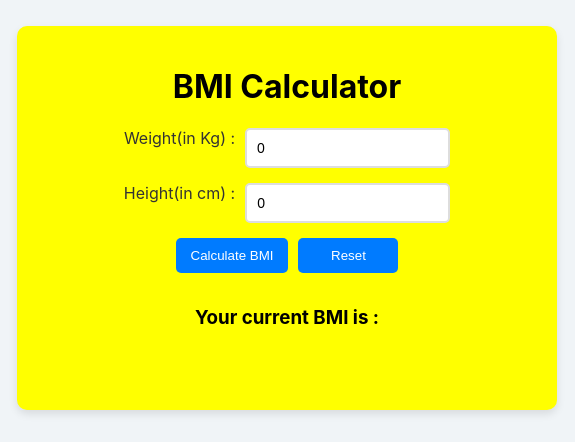
Test: BMI-Calculator › calculates BMI correctly
Replace the text in the field with class "weight-input" with "70". click: (348, 148)
box: [245,128,450,168]
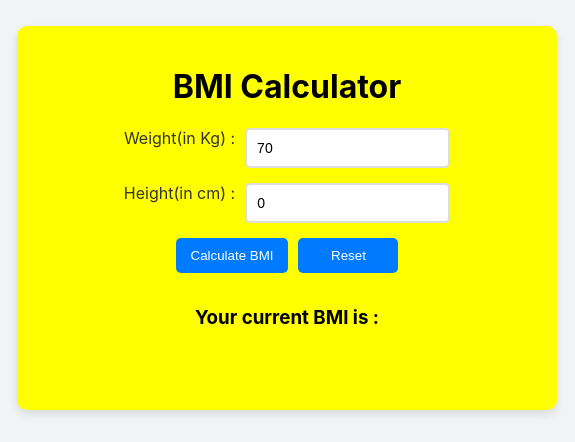
Replace the text in the field with class "height-input" with "170". click: (348, 203)
box: [245,183,450,223]
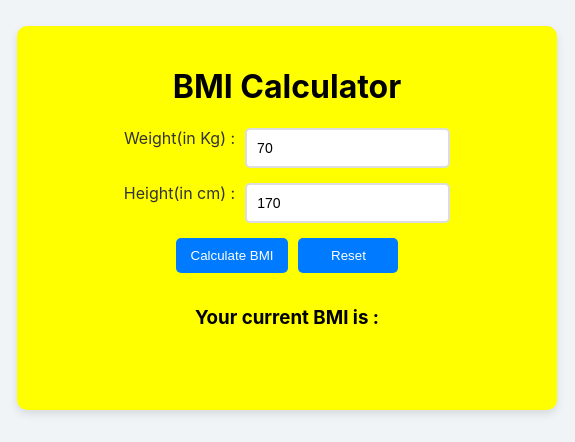
Click the button "Calculate BMI". click: (232, 255)
box: [176,238,288,273]
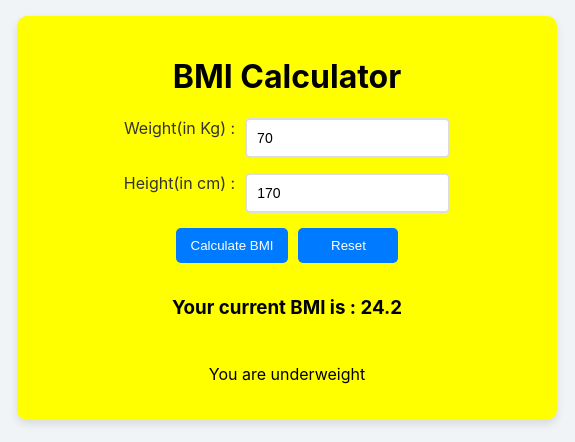
Result: the heading "Your current BMI is : 24.2" is shown at [172,296,402,319]
